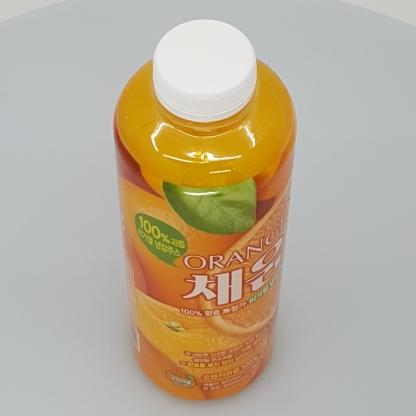-------730ML: (113, 19, 297, 400)
